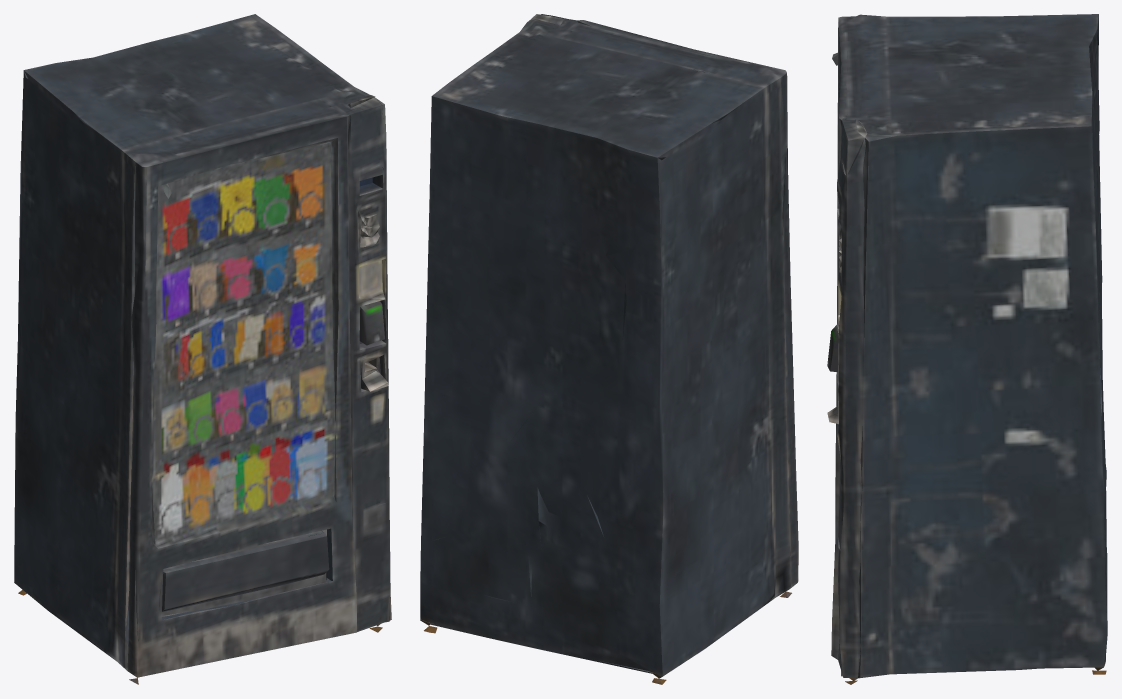
Rendered from vending.glb.
3 views of the same model, side by side, from view 1: azimuth 30°, elevation 25°; view 2: azimuth 150°, elevation 25°; view 3: azimuth 270°, elevation 25° (orthographic). The views are drawn at different scales.
Visible parts, largest first — view 1: vending; view 2: vending; view 3: vending.
Boxes of the visible parts, bbox=[...] form: vending: bbox=[14, 14, 391, 684]; vending: bbox=[420, 14, 798, 684]; vending: bbox=[827, 14, 1107, 684].
Size of the model in its own units: 0.95 by 1.85 by 0.85.
1 material, 1 textured.
